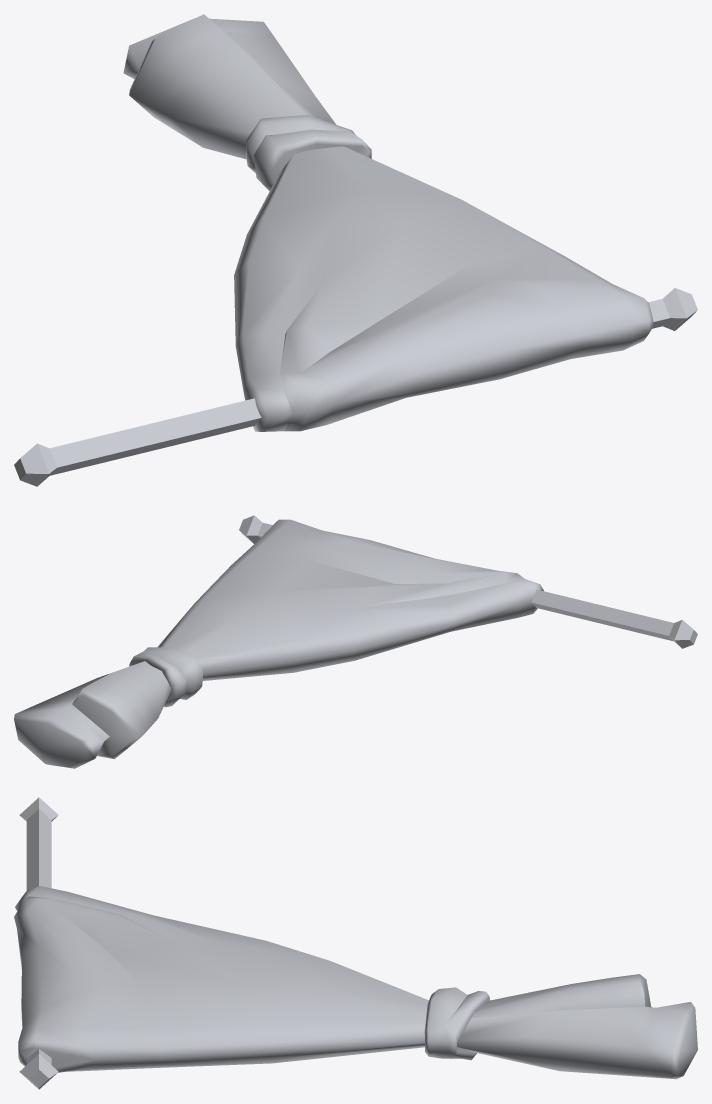
File: P_AP23Curtain.glb
The picture shows the model from 3 angles, top to bottom: view 1: azimuth 30°, elevation 25°; view 2: azimuth 150°, elevation 25°; view 3: azimuth 270°, elevation 25°; orthographic projection. The views are drawn at different scales.
Visible parts, largest first — view 1: P_AP23Curtain; view 2: P_AP23Curtain; view 3: P_AP23Curtain.
Part boxes in pixels (left/top/right/bottom): P_AP23Curtain: left=14, top=14, right=697, bottom=486; P_AP23Curtain: left=14, top=515, right=697, bottom=768; P_AP23Curtain: left=14, top=797, right=697, bottom=1089.
Size of the model in its own units: 1.5 by 0.2216 by 1.61.
1 material, 1 textured.
